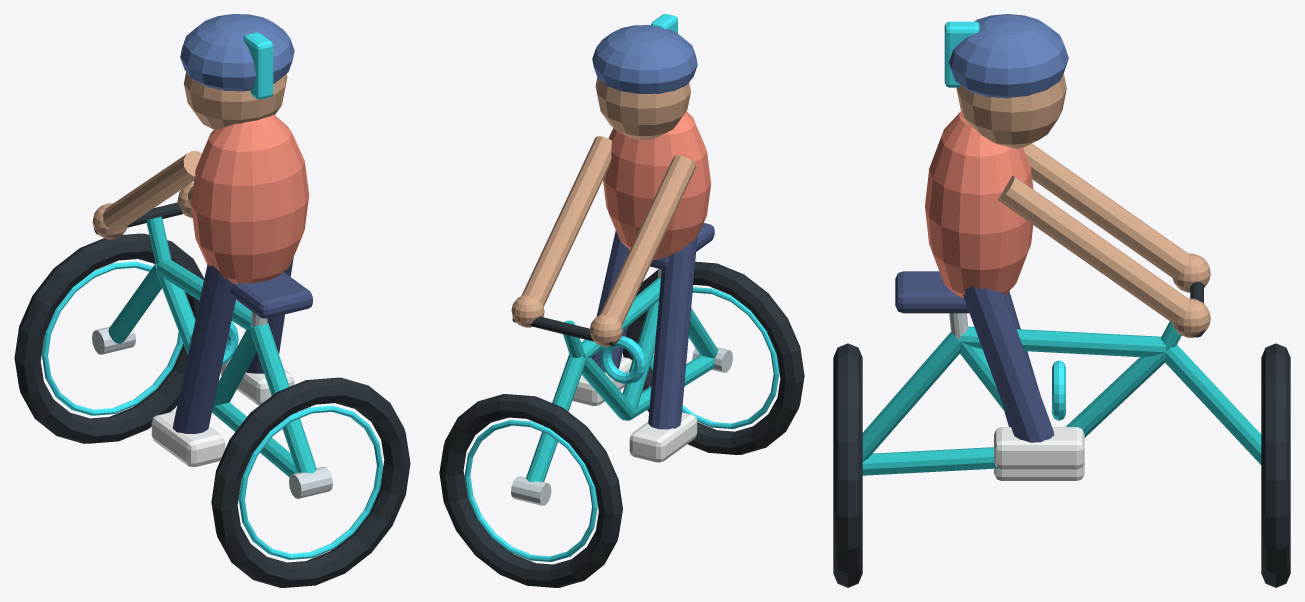
The model's file is RiderBike.fbx.
The picture shows the model from 3 angles, left to right: view 1: azimuth 30°, elevation 25°; view 2: azimuth 150°, elevation 25°; view 3: azimuth 270°, elevation 25°; orthographic projection. The views are drawn at different scales.
Parts seen in each view (by area): view 1: RiderTorso, RearWheel, FrontWheel, Helmet, LeftLeg, RiderHead, RearWheelGlow, LeftArm, FrameTube02, Seat, FrontWheelGlow, LeftShoe (+13 smaller); view 2: FrontWheel, RiderTorso, RearWheel, LeftLeg, Helmet, LeftArm, RightArm, RiderHead, FrontWheelGlow, LeftShoe, FrameTube05, RearWheelGlow (+13 smaller); view 3: RiderTorso, Helmet, FrontWheel, RearWheel, RightArm, RightLeg, LeftArm, RiderHead, FrameTube03, RightShoe, FrameTube02, FrameTube05 (+9 smaller).
Boxes of the visible parts, x1,y1,x2,y2 form: RiderTorso: [191, 114, 309, 283]; RearWheel: [211, 377, 410, 587]; FrontWheel: [14, 233, 204, 443]; Helmet: [180, 14, 294, 91]; LeftLeg: [172, 264, 235, 433]; RiderHead: [184, 72, 287, 130]; RearWheelGlow: [238, 405, 383, 559]; LeftArm: [103, 151, 201, 230]; FrameTube02: [250, 323, 316, 473]; Seat: [230, 272, 312, 318]; FrontWheelGlow: [41, 261, 183, 415]; LeftShoe: [151, 411, 225, 467]; FrontWheel: [439, 394, 622, 587]; RiderTorso: [603, 111, 711, 259]; RearWheel: [622, 261, 804, 454]; LeftLeg: [648, 235, 697, 429]; Helmet: [592, 25, 697, 93]; LeftArm: [599, 155, 696, 325]; RightArm: [521, 136, 612, 306]; RiderHead: [595, 78, 690, 139]; FrontWheelGlow: [464, 420, 597, 561]; LeftShoe: [629, 412, 697, 462]; FrameTube05: [526, 354, 585, 481]; RearWheelGlow: [650, 287, 779, 428]; RiderTorso: [925, 111, 1033, 298]; Helmet: [948, 14, 1068, 98]; FrontWheel: [1261, 343, 1290, 587]; RearWheel: [833, 343, 862, 587]; RightArm: [997, 175, 1189, 323]; RightLeg: [963, 286, 1054, 442]; LeftArm: [1023, 143, 1189, 278]; RiderHead: [956, 73, 1066, 148]; FrameTube03: [960, 326, 1165, 357]; RightShoe: [994, 427, 1084, 469]; FrameTube02: [862, 332, 960, 461]; FrameTube05: [1165, 345, 1261, 464].
Size of the model in its own units: 125 by 311 by 232.
